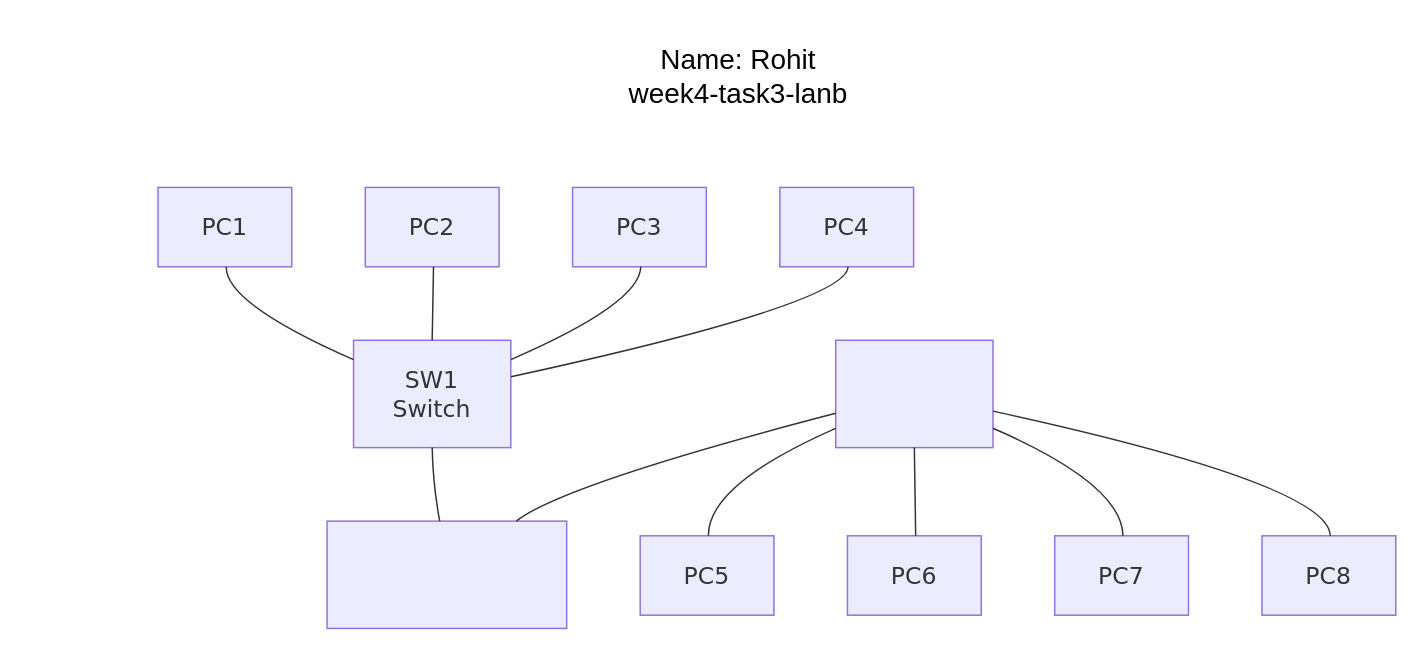
The diagram is 1421 pixels wide and 654 high, and some of its shapes have lost their labels. The centre of each missing label's shape, as x and y in pixels:
"SW2 Switch" belongs at point (913, 393).
"SW3 Central Switch" belongs at point (446, 574).
